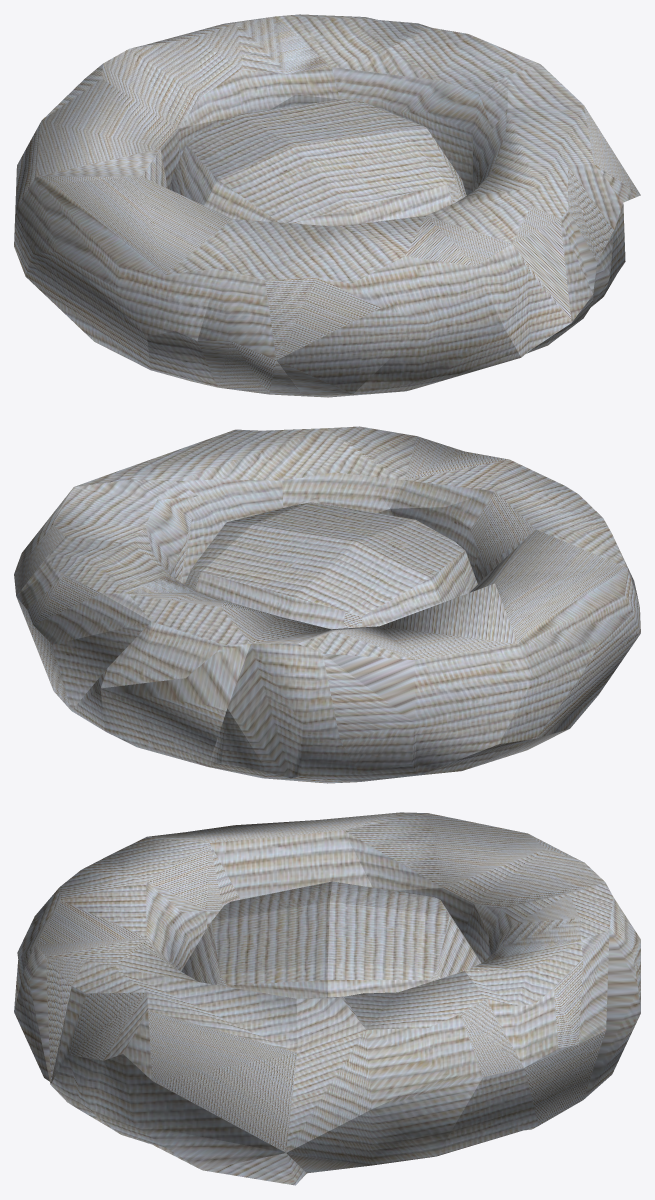
The model's file is Collider05.fbx.
3 renders of one model, top to bottom at view 1: azimuth 30°, elevation 25°; view 2: azimuth 150°, elevation 25°; view 3: azimuth 270°, elevation 25°, orthographic.
Visible parts, largest first — view 1: Collider05; view 2: Collider05; view 3: Collider05.
Part boxes in pixels (box(x1,y1,x2,y2)): Collider05: box(14, 14, 640, 397); Collider05: box(14, 426, 640, 783); Collider05: box(14, 812, 640, 1185).
Bounding box in the file's own units: 143 × 42.54 × 141.
